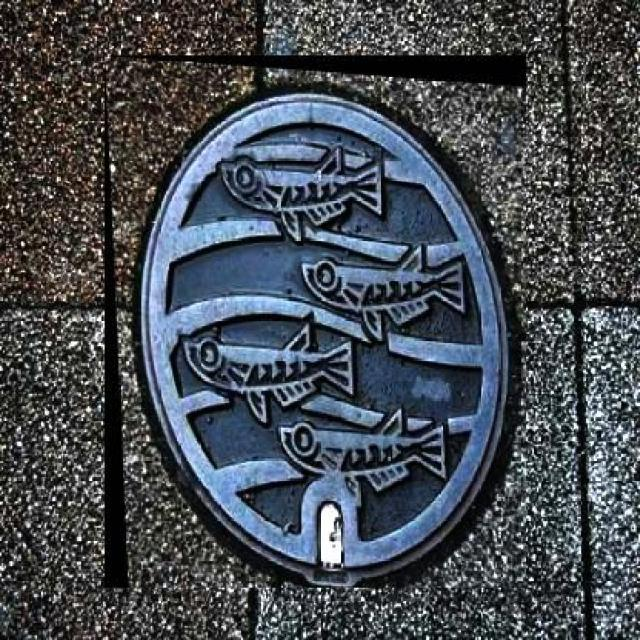Manhole: (104, 54, 526, 588)
